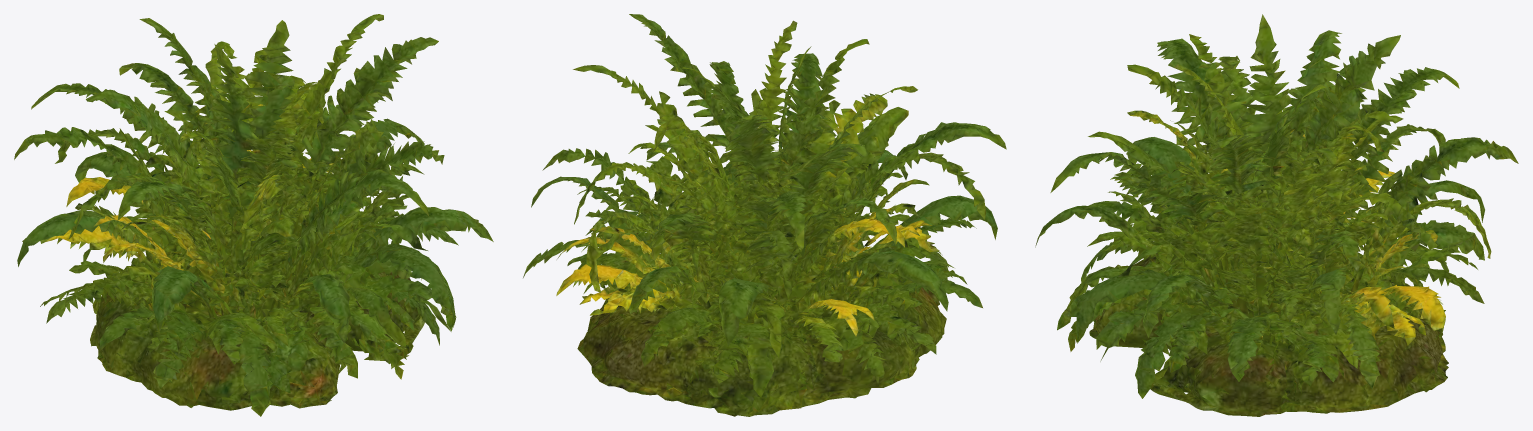
The model's file is fern-clump.glb.
The picture shows the model from 3 angles, left to right: view 1: azimuth 30°, elevation 25°; view 2: azimuth 150°, elevation 25°; view 3: azimuth 270°, elevation 25°; orthographic projection.
Parts seen in each view (by area): view 1: Mesh_0; view 2: Mesh_0; view 3: Mesh_0.
Part boxes in pixels (box(x1,y1,x2,y2)): Mesh_0: box(14, 14, 493, 416); Mesh_0: box(523, 14, 1006, 416); Mesh_0: box(1035, 14, 1518, 416).
Size of the model in its own units: 1.9 by 1.34 by 1.9.
1 material, 1 textured.
